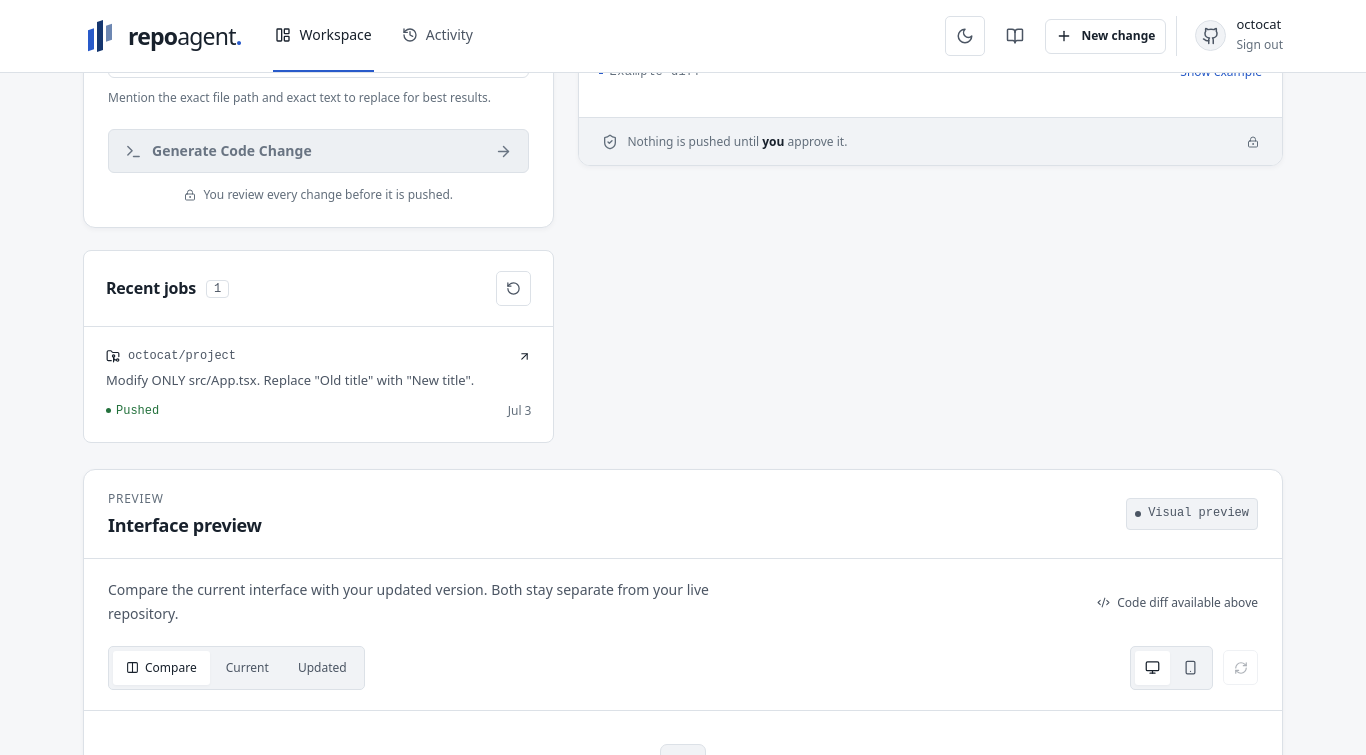
Test: RepoAgent signed-in workflow › restores pushed history with the saved commit message and no second approval action
(page scrolled)
Click the button with aria-label "Open job 76: octocat/project".
click(319, 385)  # box [91, 334, 546, 436]
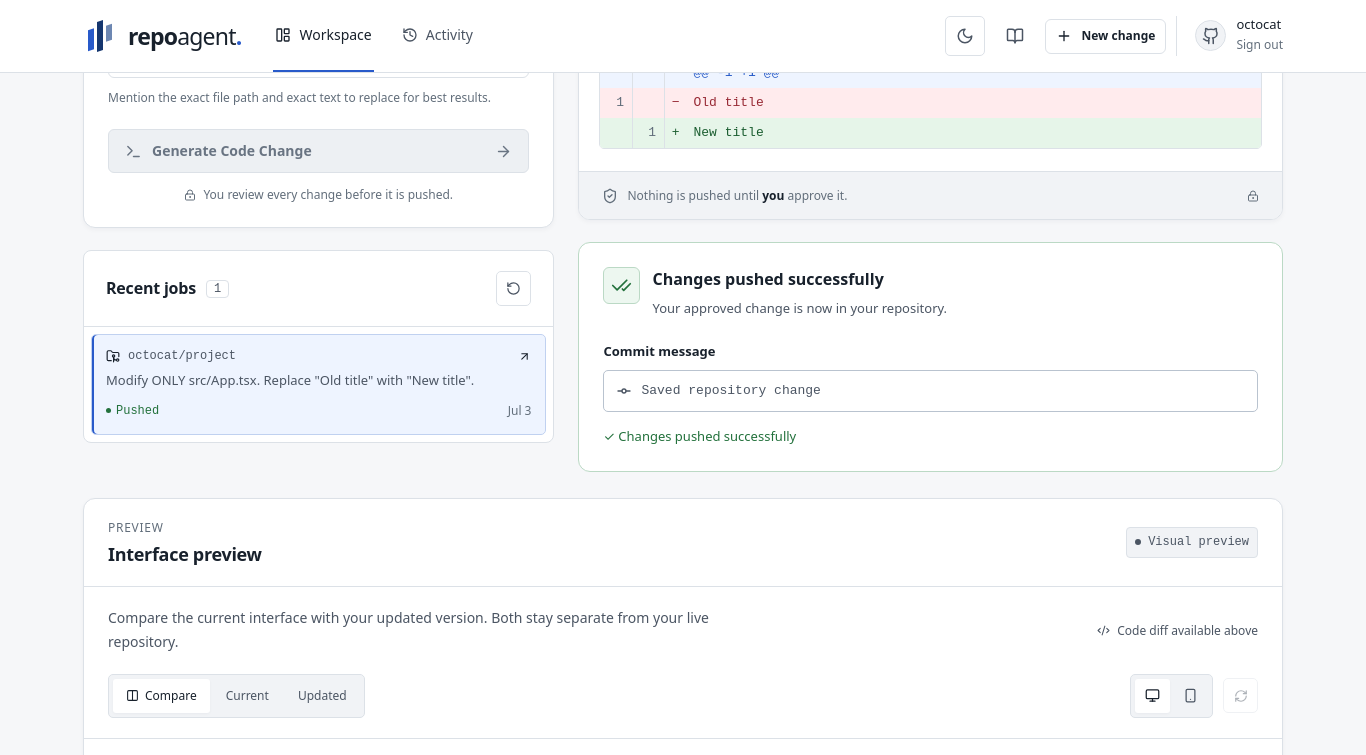
Now the text "Saved repository change" is shown, box [642, 383, 821, 398]
Click the button "New change".
click(1105, 36)  # box [1044, 18, 1166, 54]
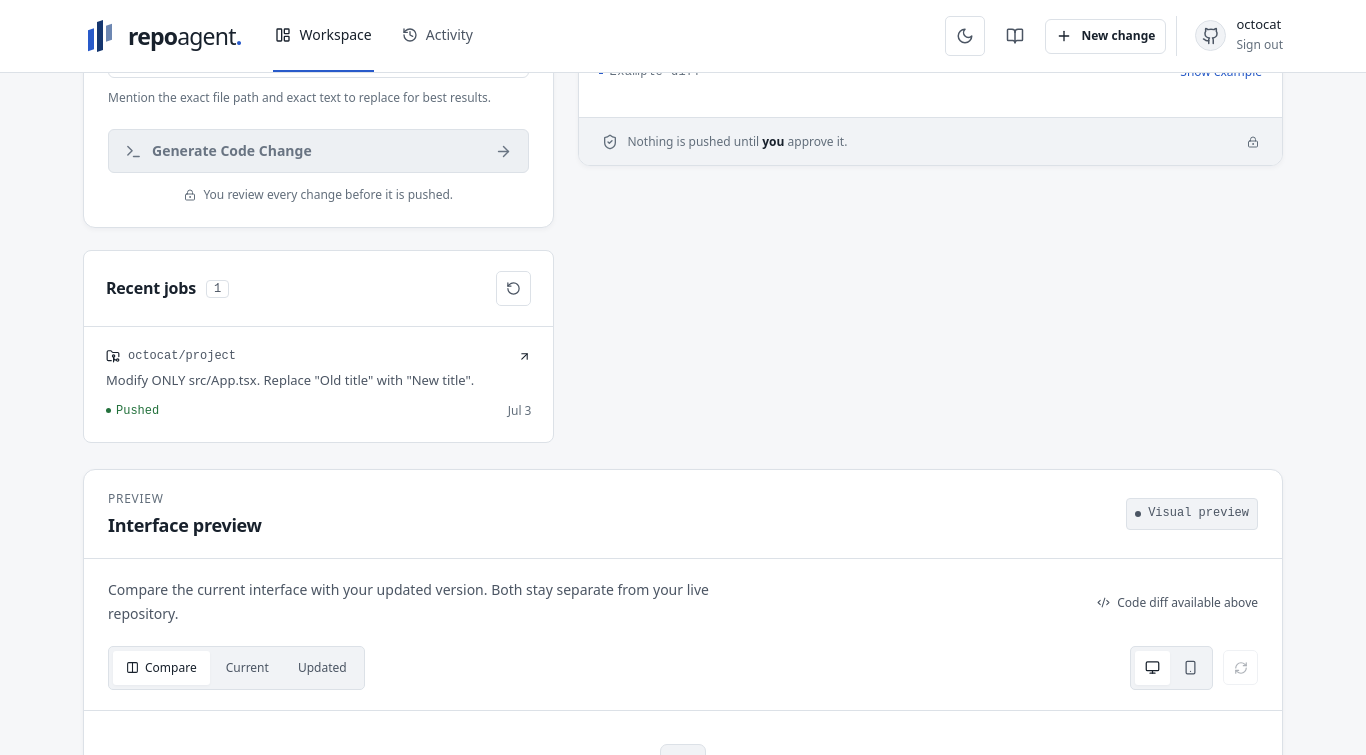
Now the heading "Changes pushed successfully" is gone
